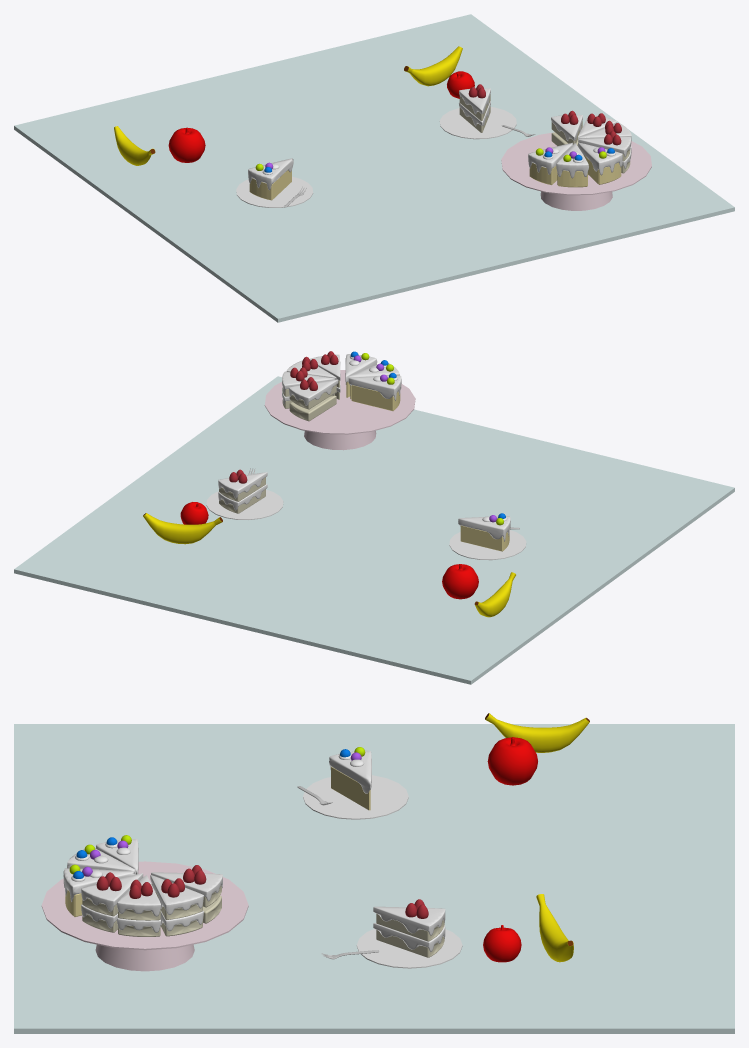
The picture shows the model from 3 angles, top to bottom: view 1: azimuth 30°, elevation 25°; view 2: azimuth 150°, elevation 25°; view 3: azimuth 270°, elevation 25°; orthographic projection. The views are drawn at different scales.
Parts seen in each view (by area): view 1: group7; view 2: group7; view 3: group7.
Boxes of the visible parts, box(x1,y1,x2,y2) form: group7: box(14, 14, 734, 322); group7: box(14, 351, 734, 684); group7: box(14, 713, 734, 1033).
Size of the model in its own units: 0.5318 by 0.0817 by 0.5318.
